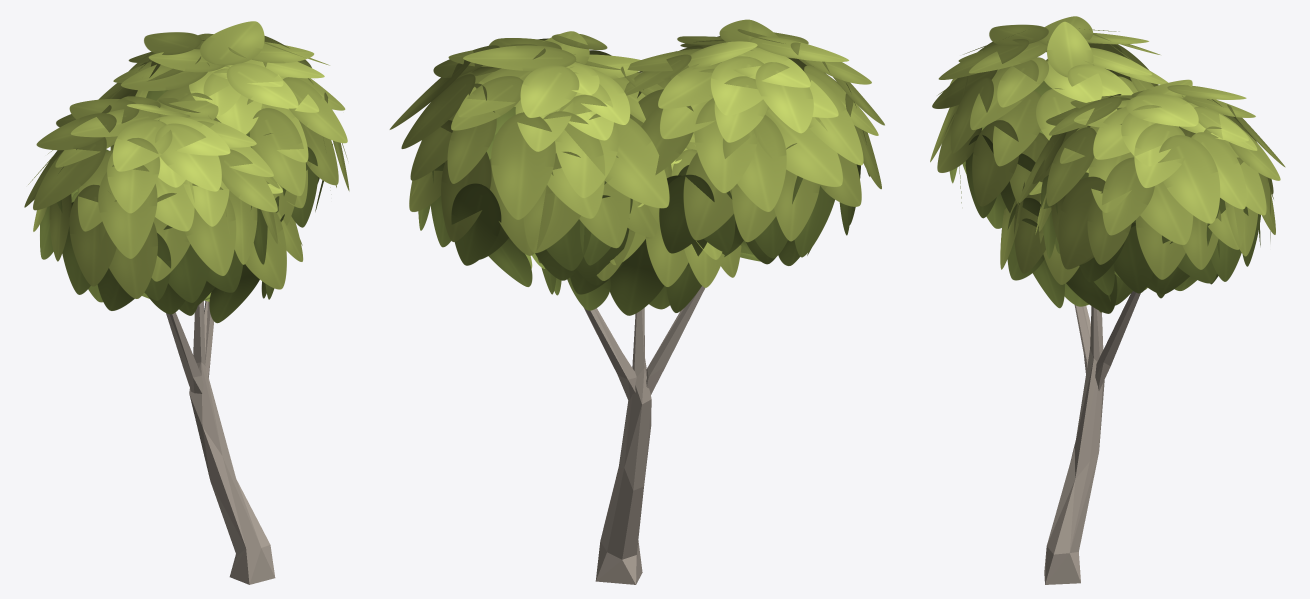
The model's file is tree_lean_olive_lod1.glb.
3 views of the same model, side by side, from view 1: azimuth 30°, elevation 25°; view 2: azimuth 150°, elevation 25°; view 3: azimuth 270°, elevation 25° (orthographic). The views are drawn at different scales.
Visible parts, largest first — view 1: foliage, trunk; view 2: foliage, trunk; view 3: foliage, trunk.
Part boxes in pixels (x1,y1,x2,y2): foliage: (24, 21, 349, 323); trunk: (166, 301, 275, 584); foliage: (389, 19, 884, 315); trunk: (583, 286, 705, 584); foliage: (930, 16, 1285, 313); trunk: (1044, 291, 1140, 584).
Bounding box in the file's own units: 4.58 × 6.11 × 4.09.
3 materials, 2 textured.
